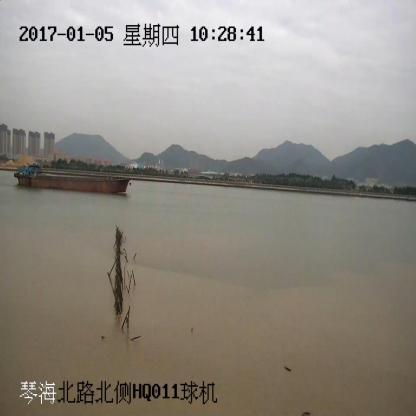Bulk Carrier: (14, 163, 131, 193)
